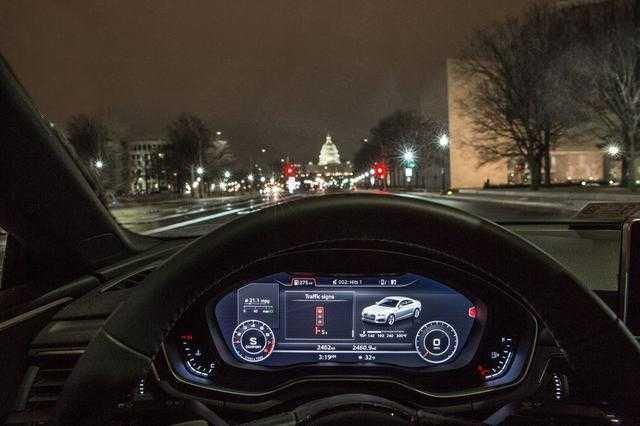red: (283, 165, 297, 177), (375, 164, 387, 176)
